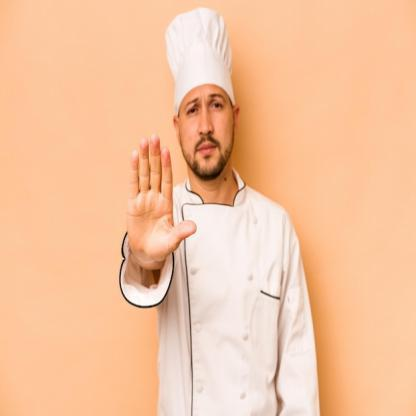stop: (128, 132, 196, 272)
